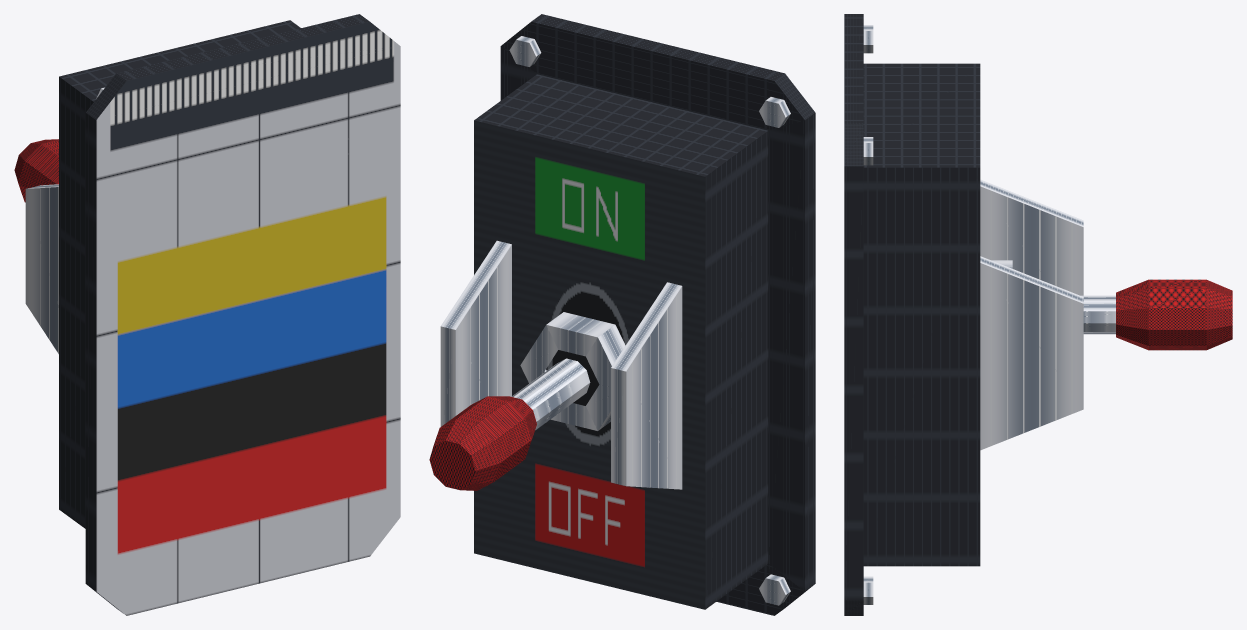
File: SEC_Industrial_Toggle_Switch.fbx
The picture shows the model from 3 angles, left to right: view 1: azimuth 30°, elevation 25°; view 2: azimuth 150°, elevation 25°; view 3: azimuth 270°, elevation 25°; orthographic projection. The views are drawn at different scales.
Visible parts, largest first — view 1: Switch_Housing, Lever_Handle; view 2: Switch_Housing, Lever_Handle, Toggle_Lever; view 3: Switch_Housing, Lever_Handle, Toggle_Lever.
Part boxes in pixels (x1,y1,x2,y2): Switch_Housing: (25, 14, 400, 615); Lever_Handle: (14, 139, 58, 202); Switch_Housing: (440, 14, 815, 615); Lever_Handle: (429, 396, 536, 490); Toggle_Lever: (511, 358, 590, 430); Switch_Housing: (844, 14, 1083, 615); Lever_Handle: (1116, 279, 1232, 350); Toggle_Lever: (1081, 295, 1115, 334).
Bounding box in the file's own units: 5 × 8.4 × 6.
Materials: 2 (2 with a texture image).
